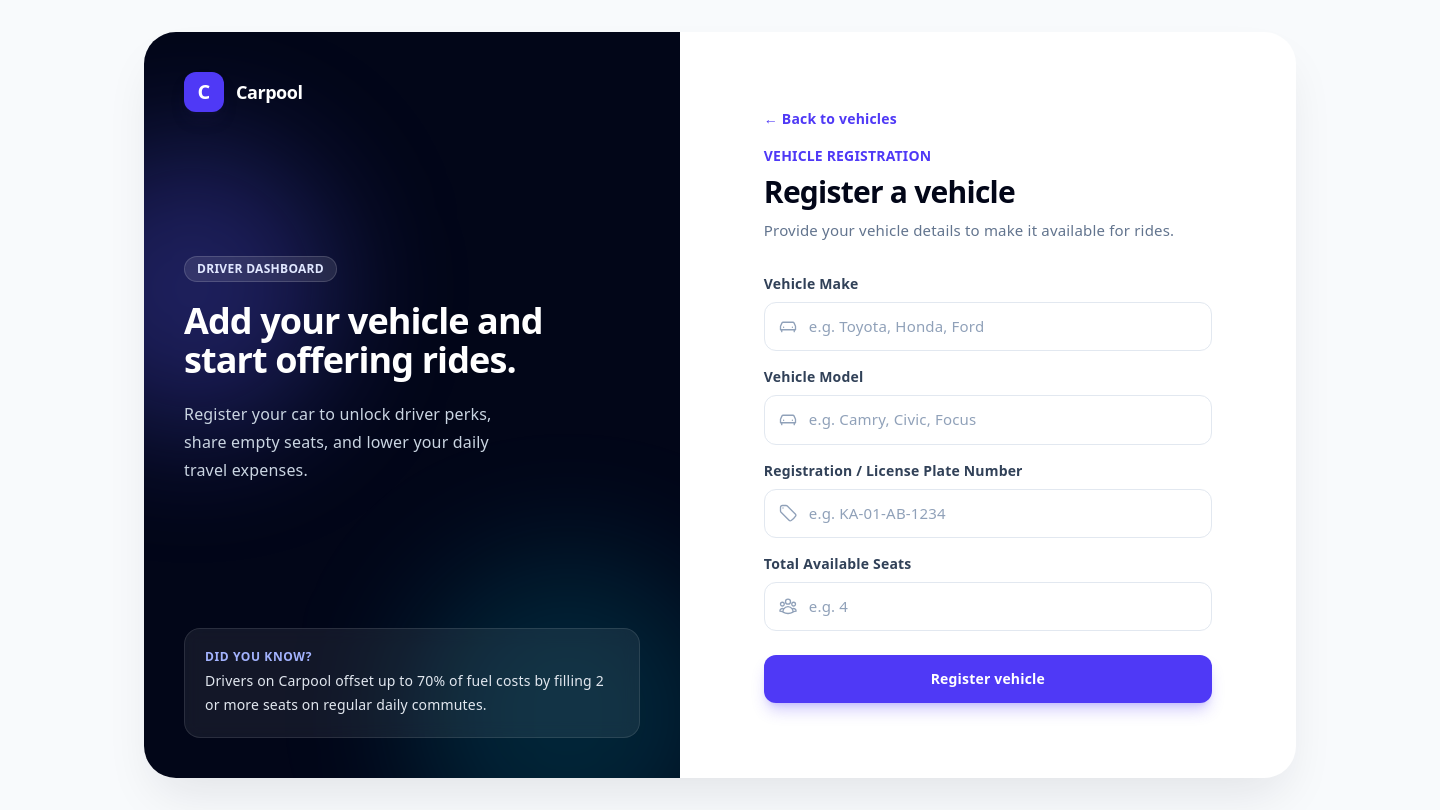
Test: RegisterVehiclePage › handles server validation errors from the API
Type "Honda" into the field labelled "Vehicle Make" at (988, 327), box [764,302,1212,351]
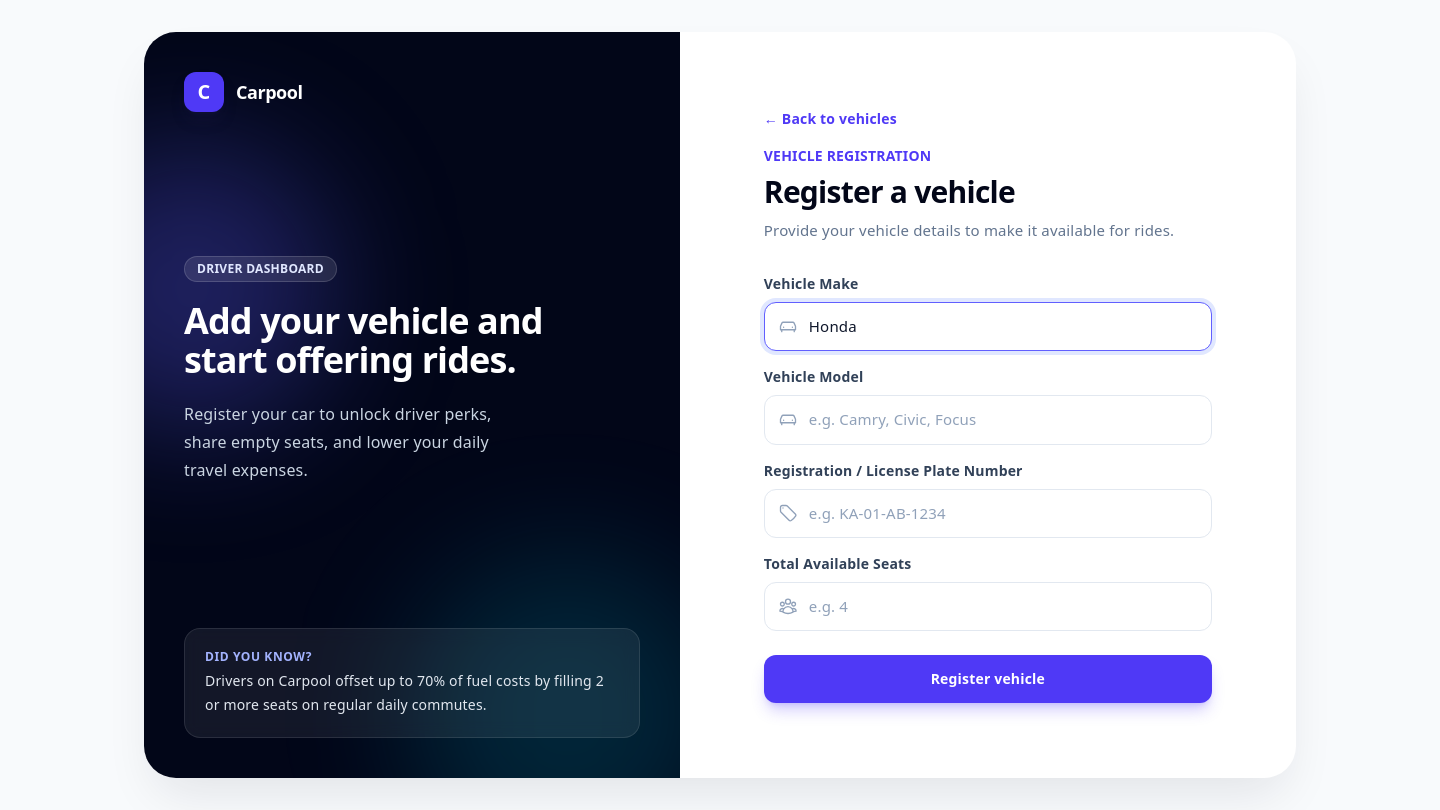
Type "Civic" into the field labelled "Vehicle Model" at (988, 420), box [764,395,1212,445]
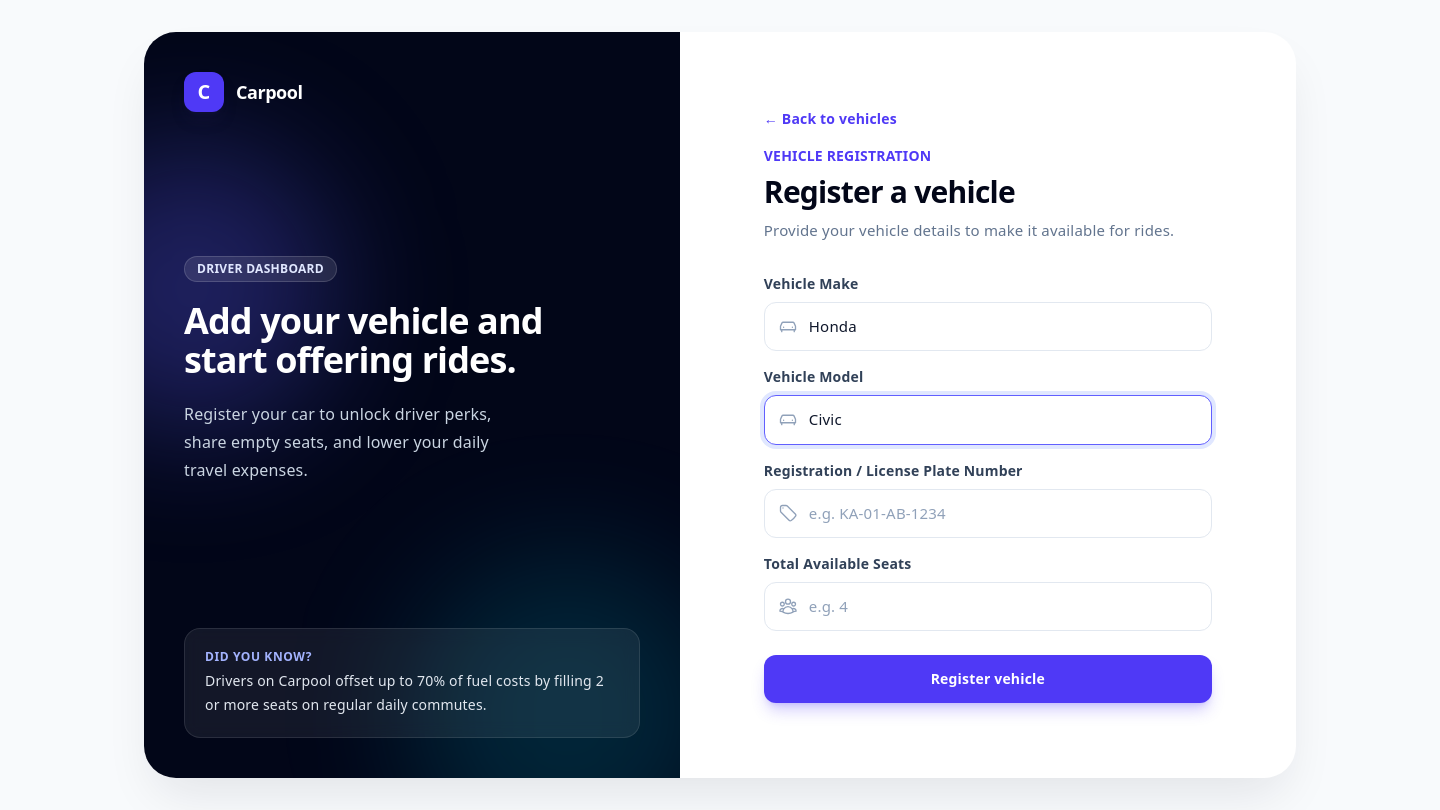
Type "DUPLICATE-1" into the field labelled "Registration / License Plate Number" at (988, 513), box [764,489,1212,538]
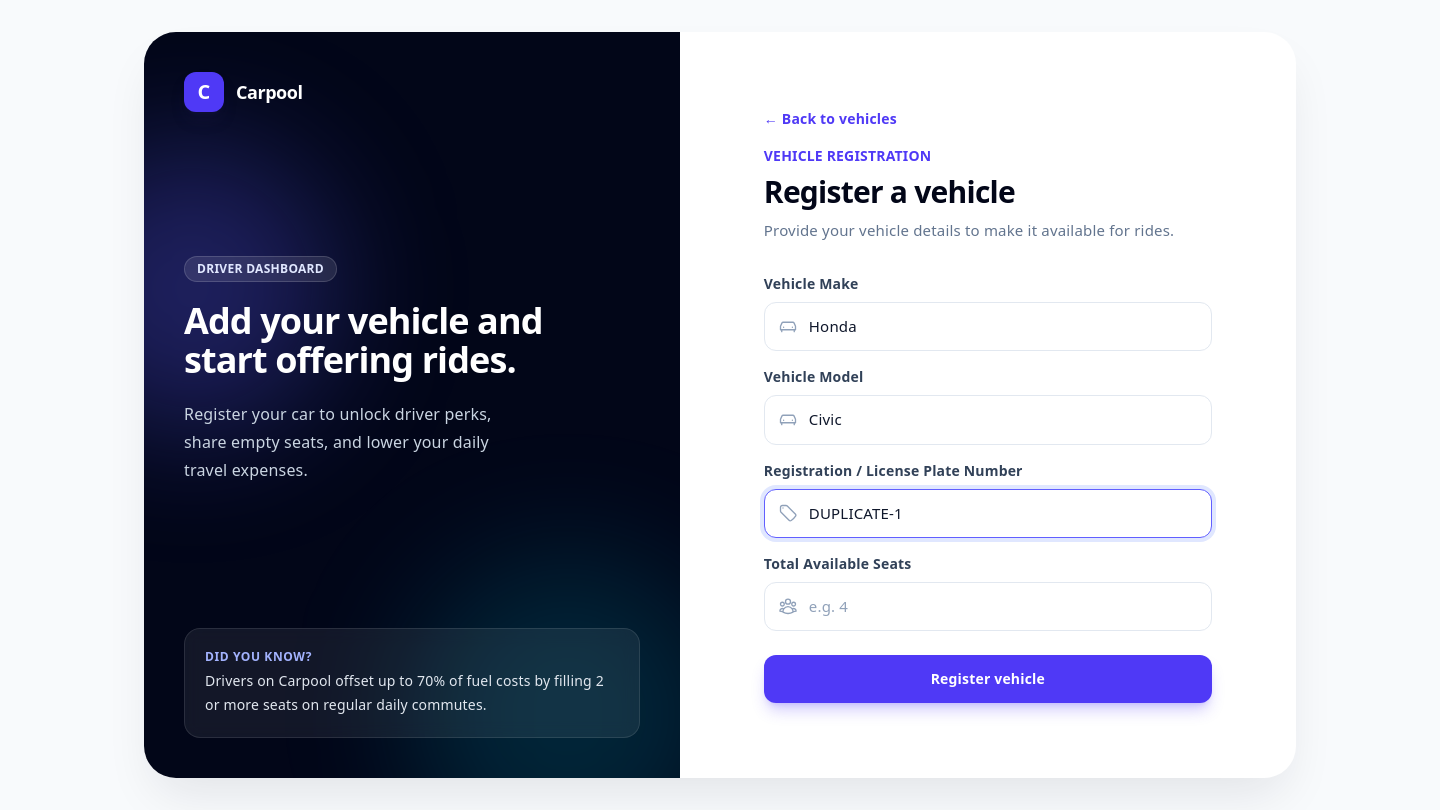
Type "3" into the number field labelled "Total Available Seats" at (988, 606), box [764,582,1212,631]
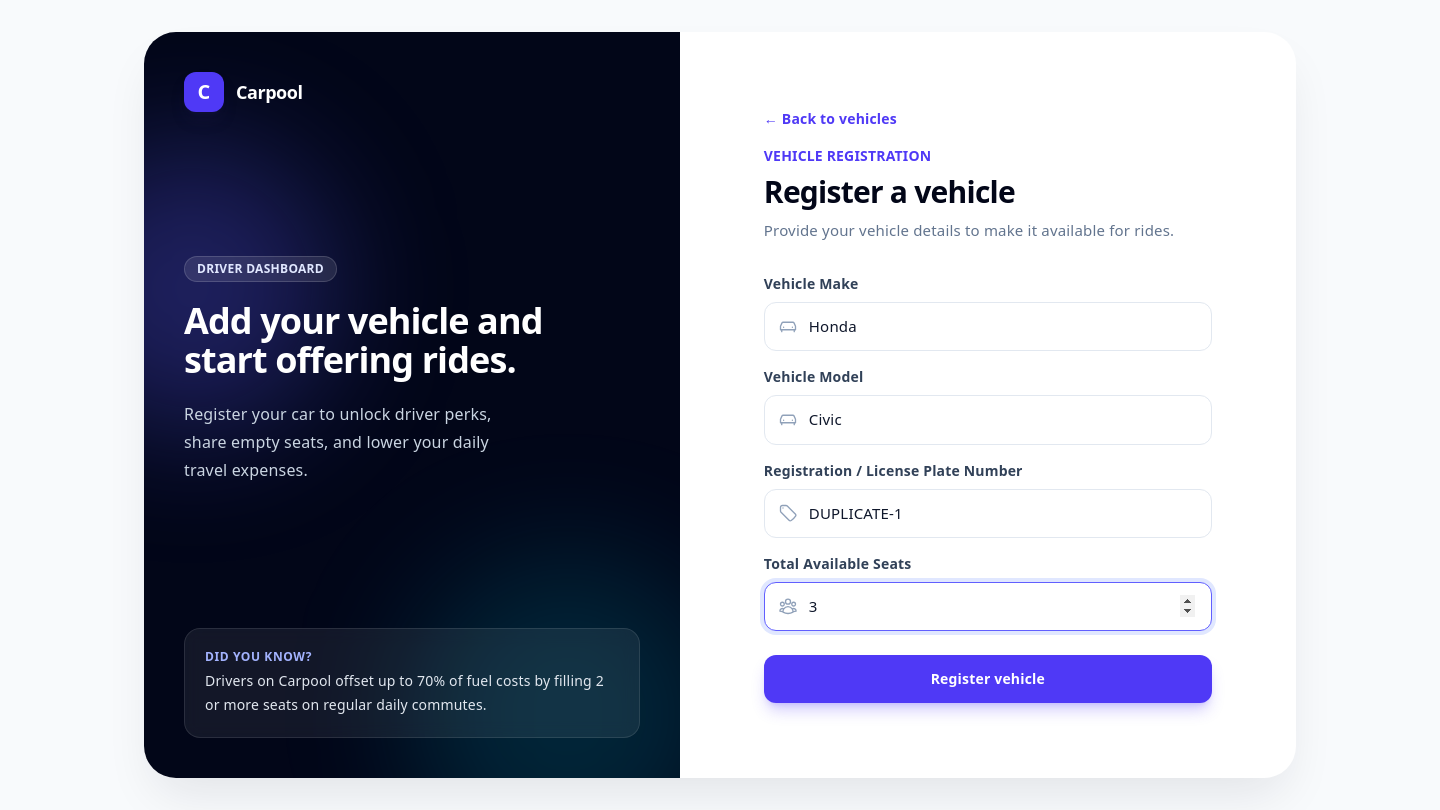
Click the button "Register vehicle" at (988, 679), box [764,655,1212,703]
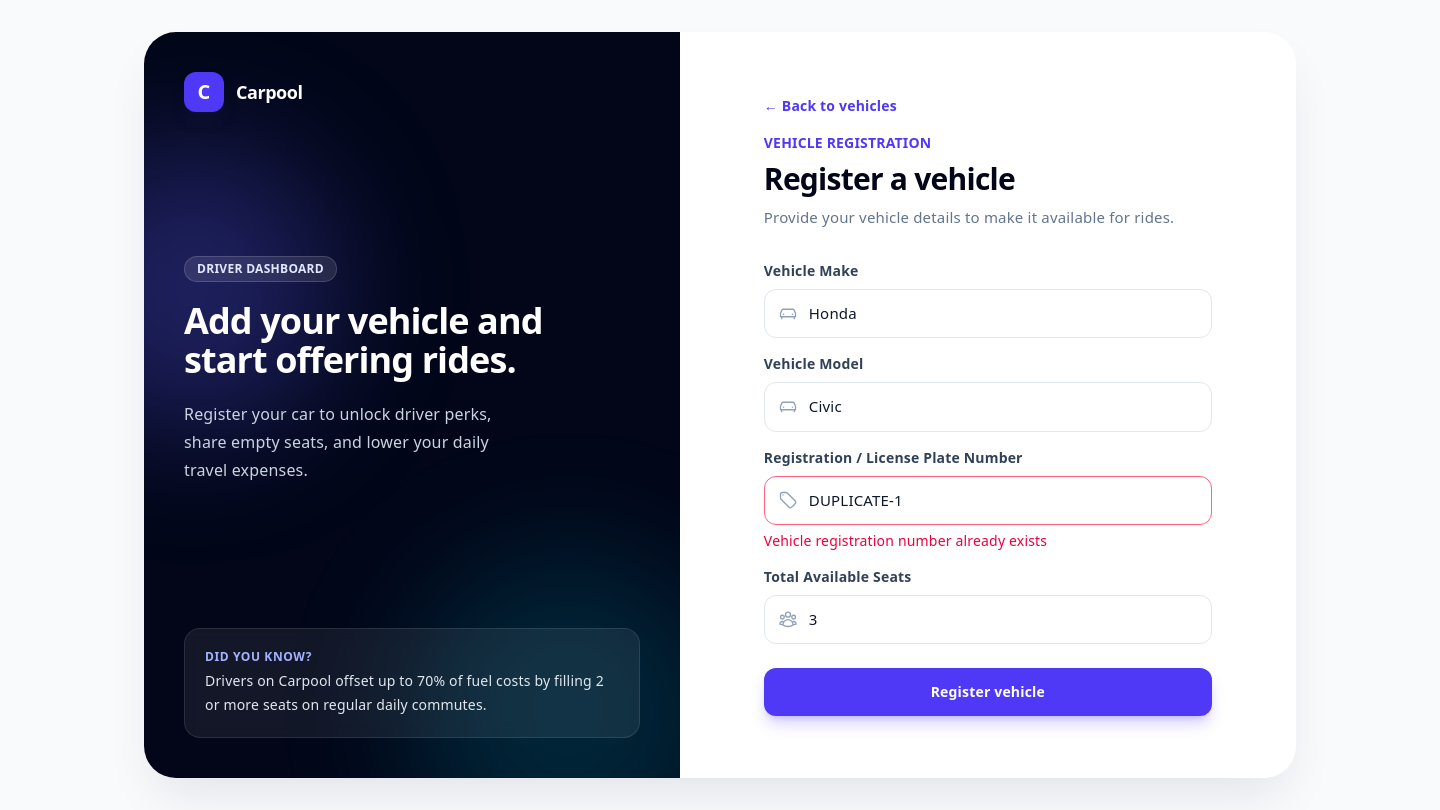
Result: the text "Vehicle registration number already exists" is shown at [764,531,1047,550]
